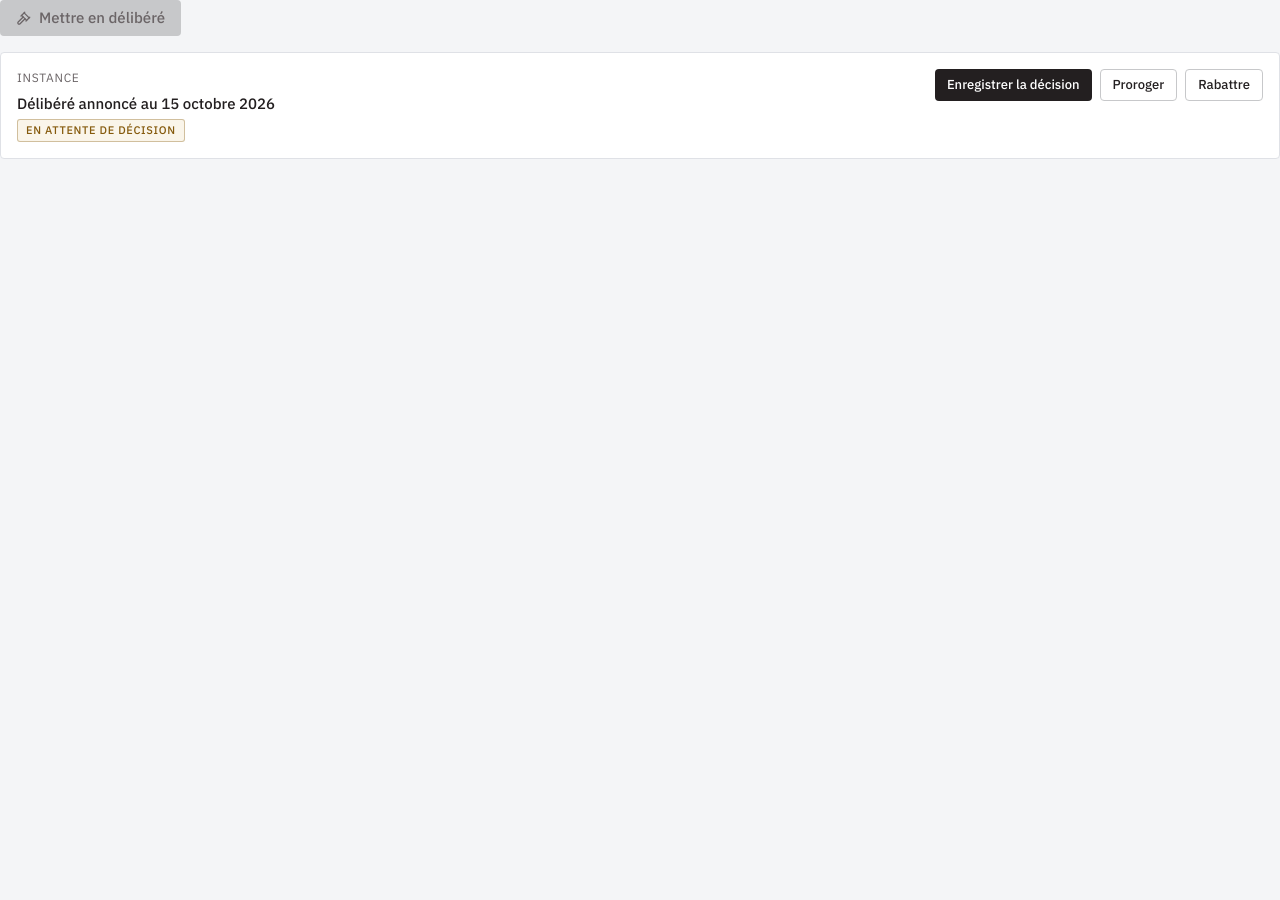
Test: OngletDeliberes - actions sur un délibéré en attente › affiche le refus d'enregistrer la décision
Click the button named "Enregistrer la décision du délibéré annoncé au 15 octobre 2026" at (1013, 85), box [935, 69, 1092, 101]
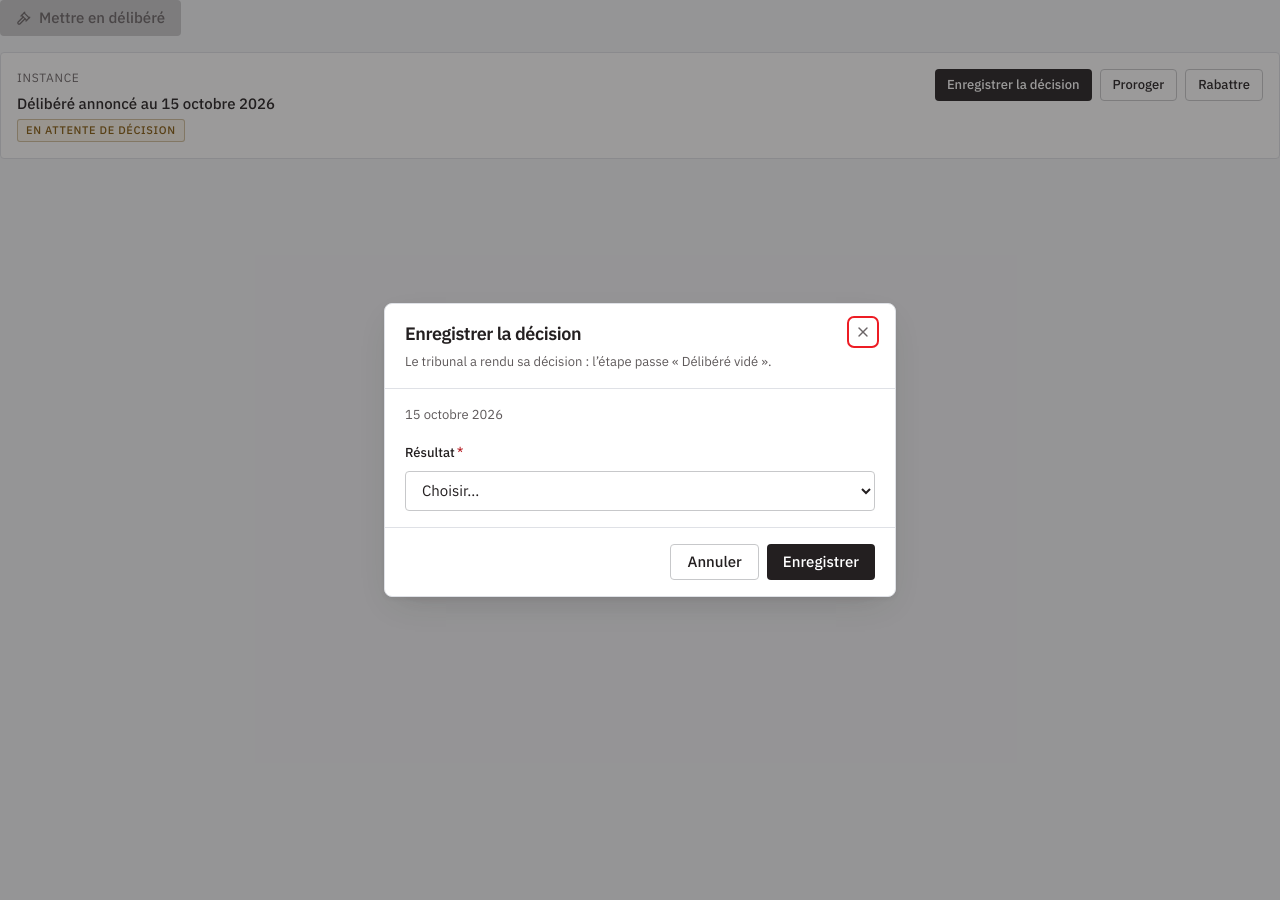
Select "Favorable" in the dropdown labelled "Résultat" at (640, 491), box [405, 471, 875, 511]
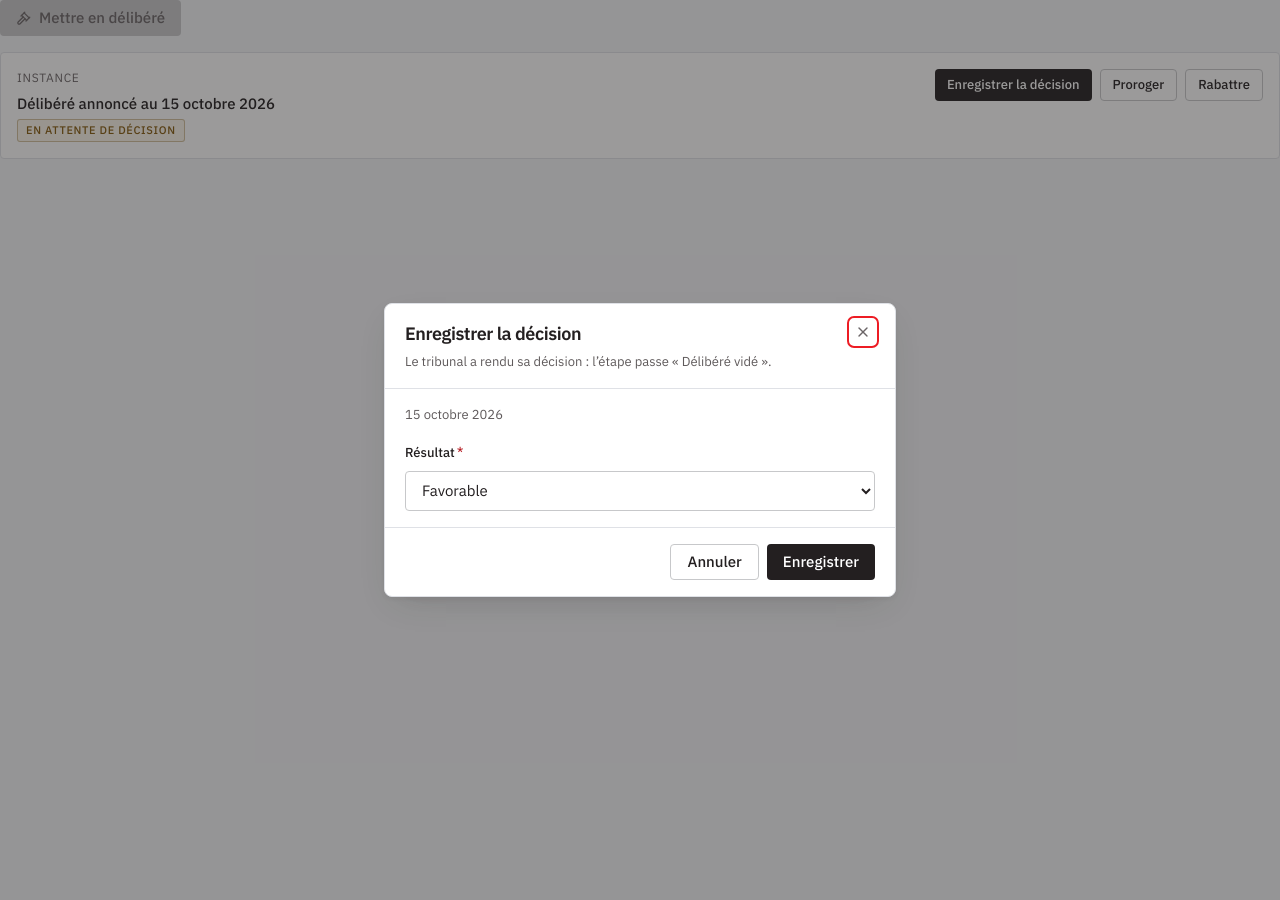
Click the button "Enregistrer" at (821, 562), box [767, 544, 875, 580]
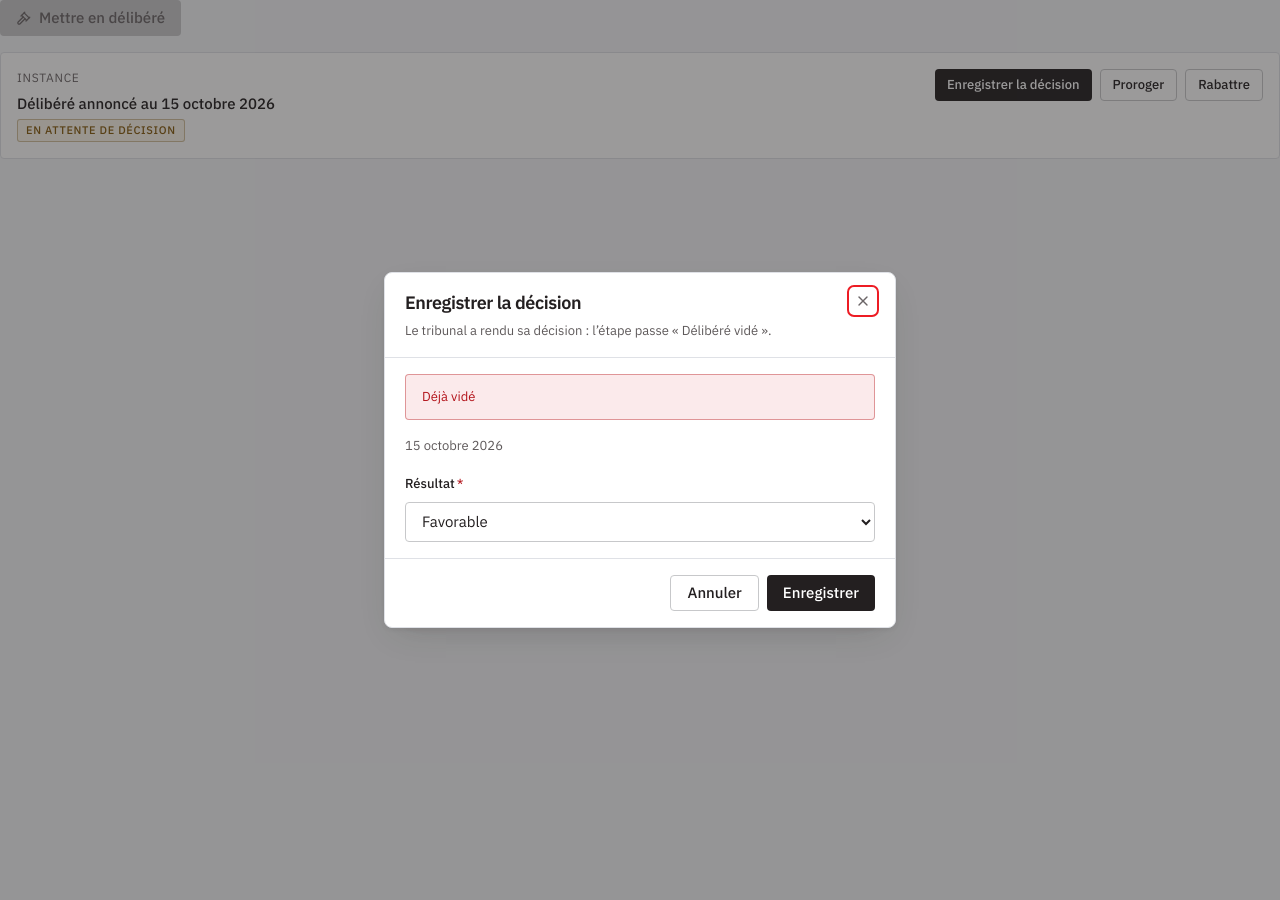
Expected: the text "Déjà vidé" is shown, [405, 374, 875, 420]
